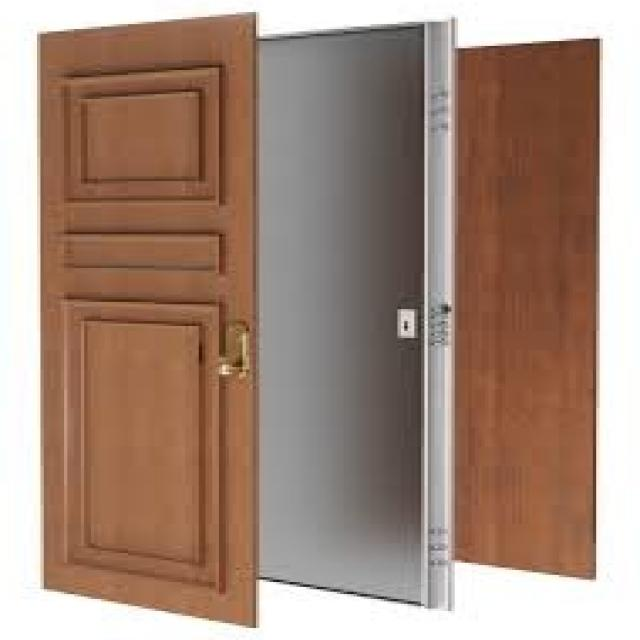door: (37, 13, 259, 629)
